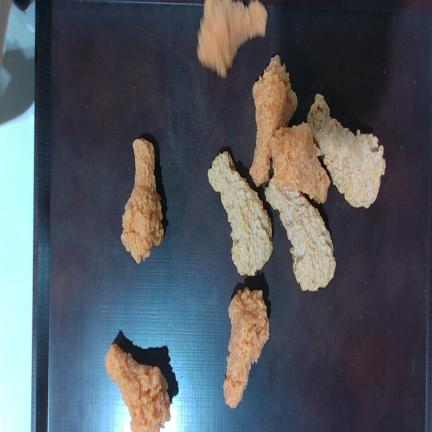chicken: (307, 95, 385, 207), (208, 151, 273, 275), (265, 179, 335, 290), (249, 55, 297, 186), (105, 344, 170, 431), (223, 287, 269, 408), (197, 0, 267, 78), (121, 139, 164, 263), (270, 122, 330, 203)
